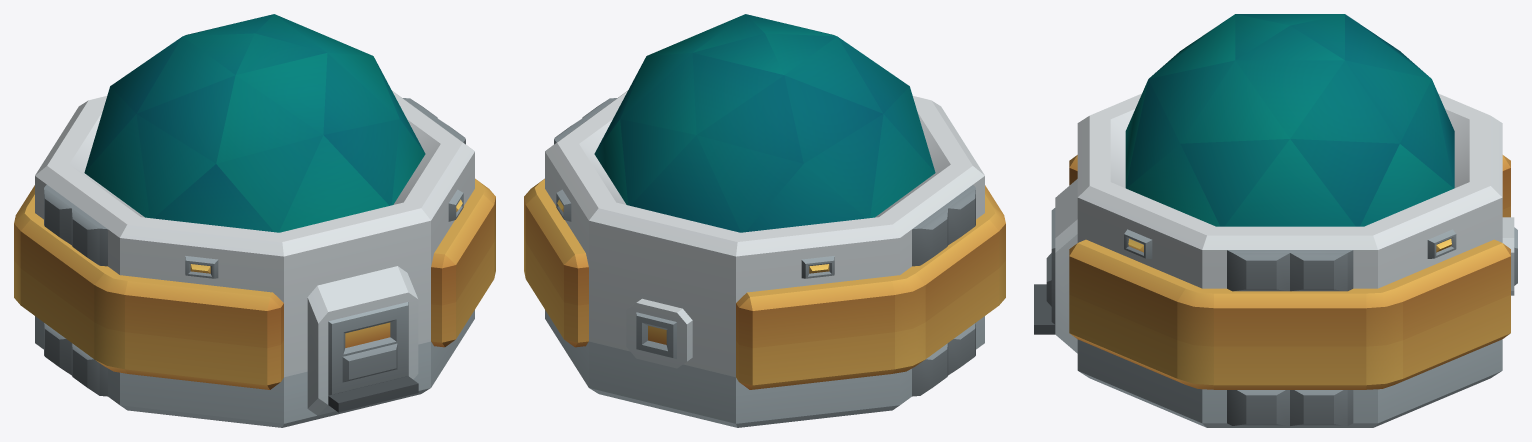
Rendered from greenhouse.glb.
The picture shows the model from 3 angles, left to right: view 1: azimuth 30°, elevation 25°; view 2: azimuth 150°, elevation 25°; view 3: azimuth 270°, elevation 25°; orthographic projection. The views are drawn at different scales.
Parts seen in each view (by area): view 1: basemodule_E; view 2: basemodule_E; view 3: basemodule_E.
Part boxes in pixels (box(x1,y1,x2,y2)): basemodule_E: box(14, 14, 495, 427); basemodule_E: box(524, 14, 1005, 427); basemodule_E: box(1034, 14, 1517, 427).
Size of the model in its own units: 6.67 by 4.95 by 6.83.
1 material, 1 textured.
